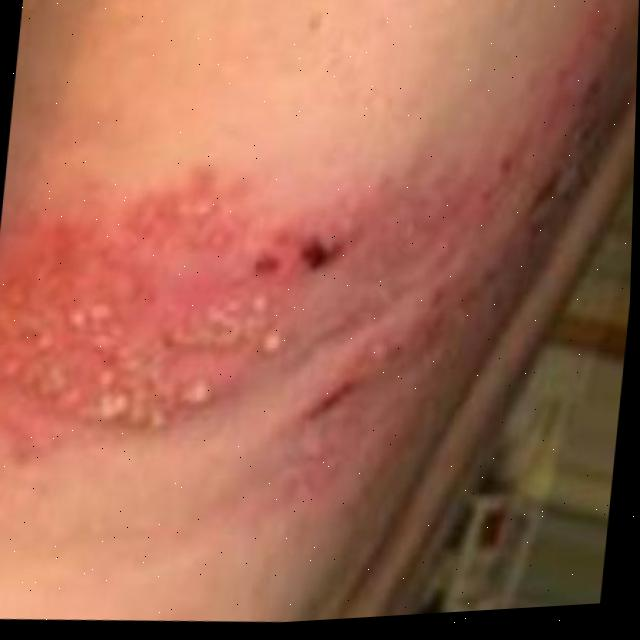Shingles: (0, 176, 350, 461)
